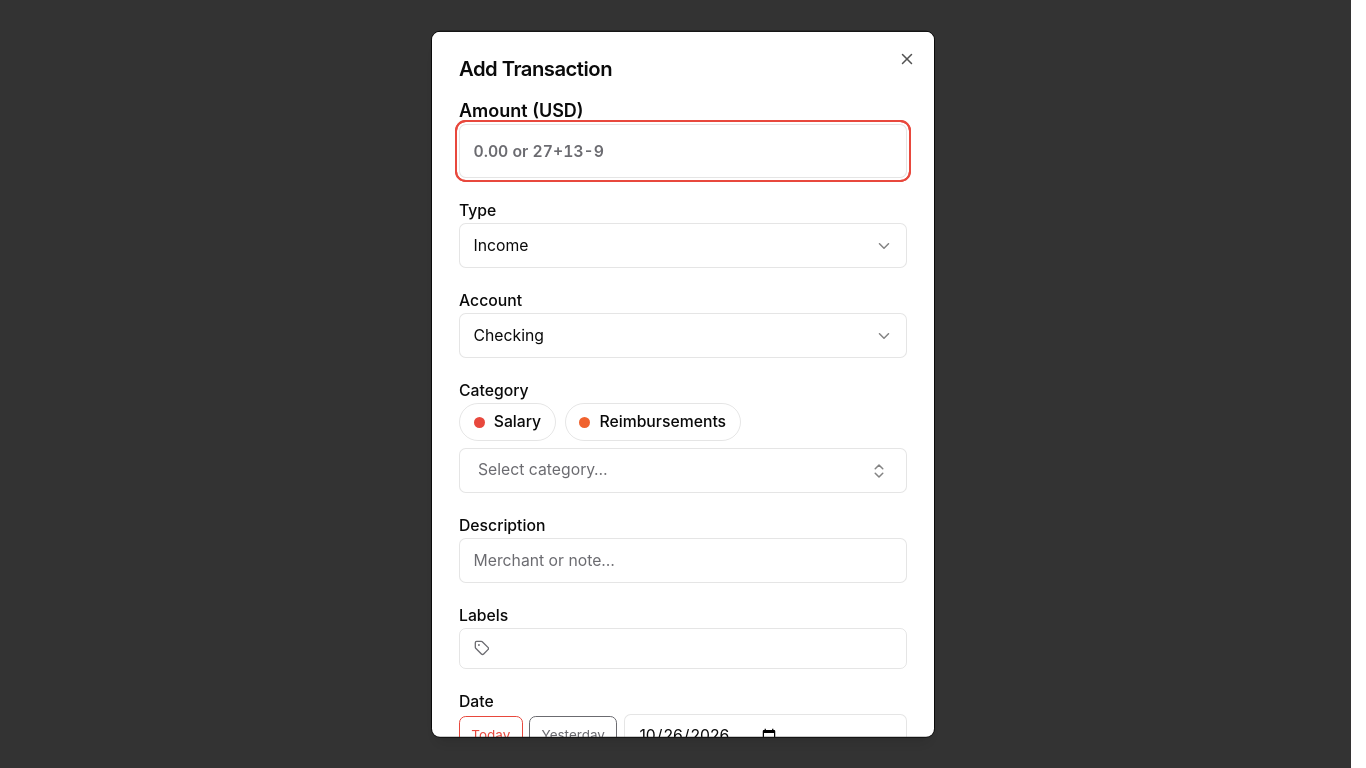
Test: TransactionForm -- category search › shows only income-compatible categories for an income transaction
Expected: the button "Salary" is shown, [459,403,556,441]
Expected: the button "Reimbursements" is shown, [565,403,741,441]
Click the dropdown labelled "category".
click(543, 469)  # box [459,448,907,493]
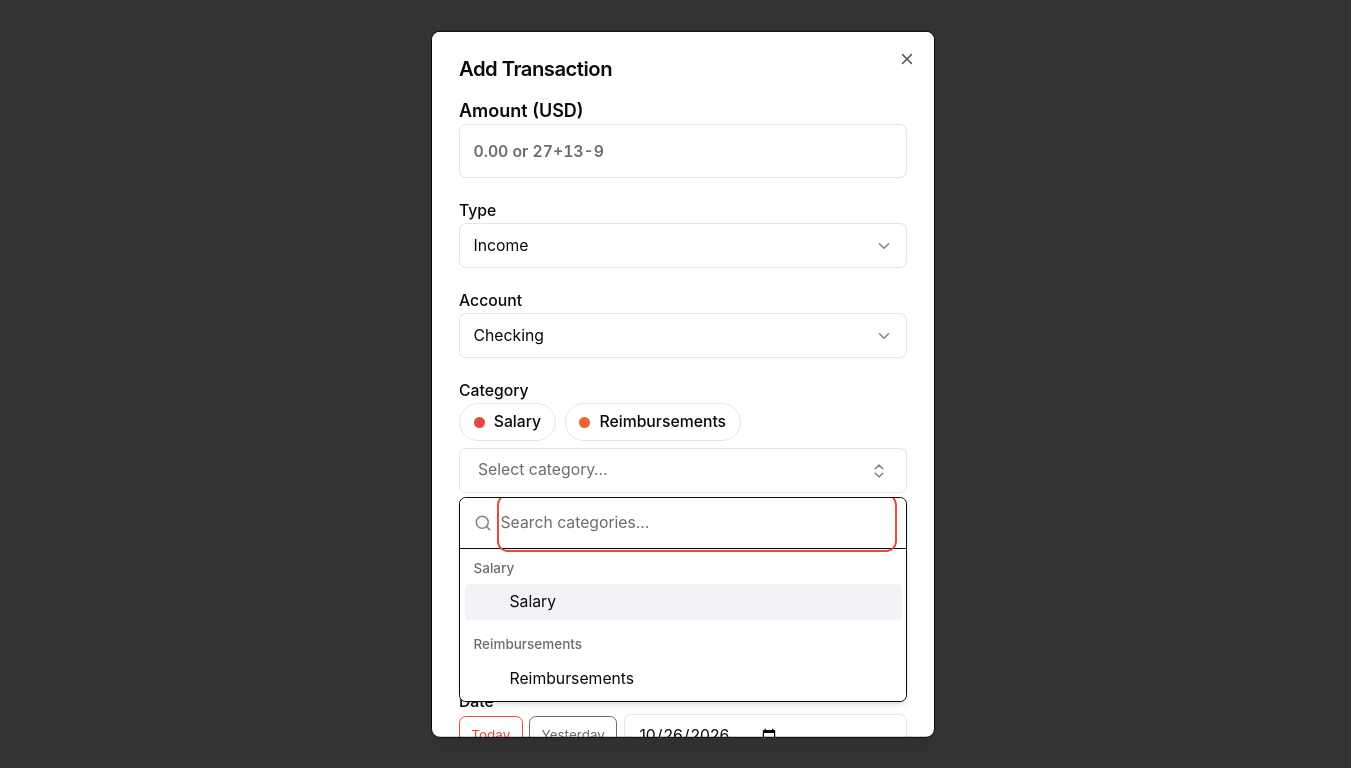
Now the option "Salary" is shown, box [464,584,902,620]
